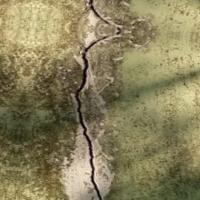crack: (63, 0, 140, 199)
